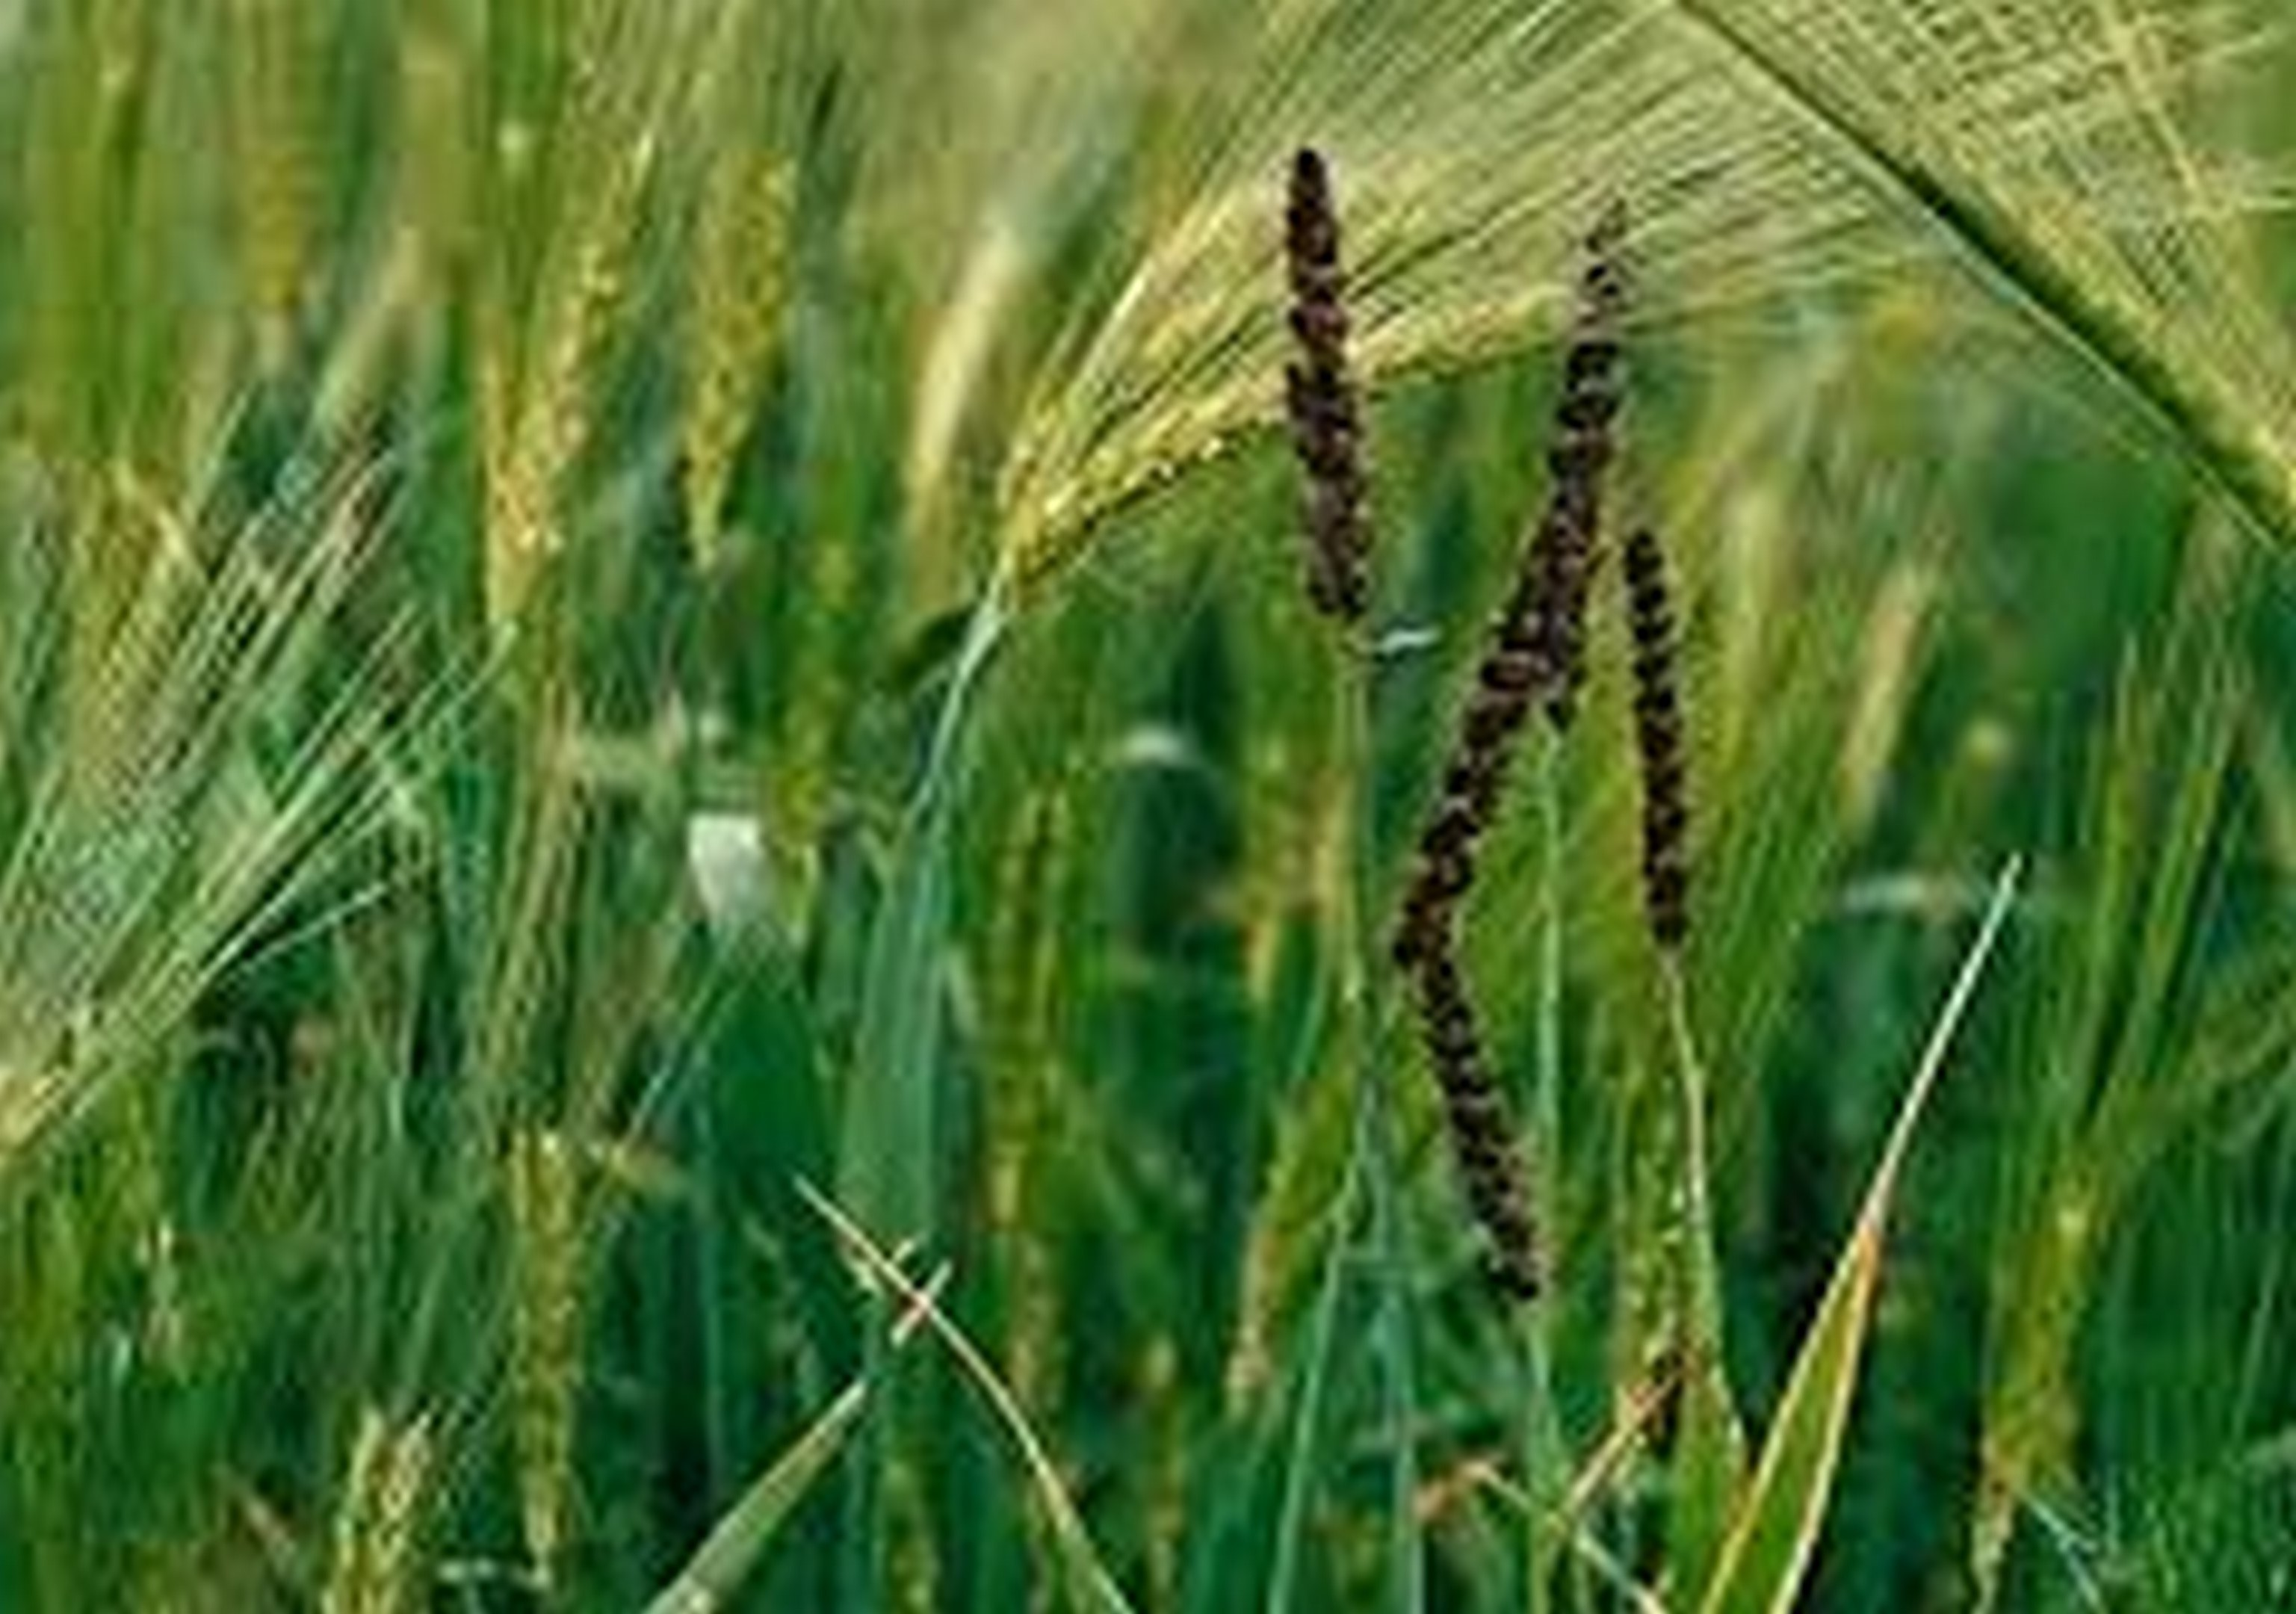Wheat Loose Smut: (1250, 169, 1767, 959)
